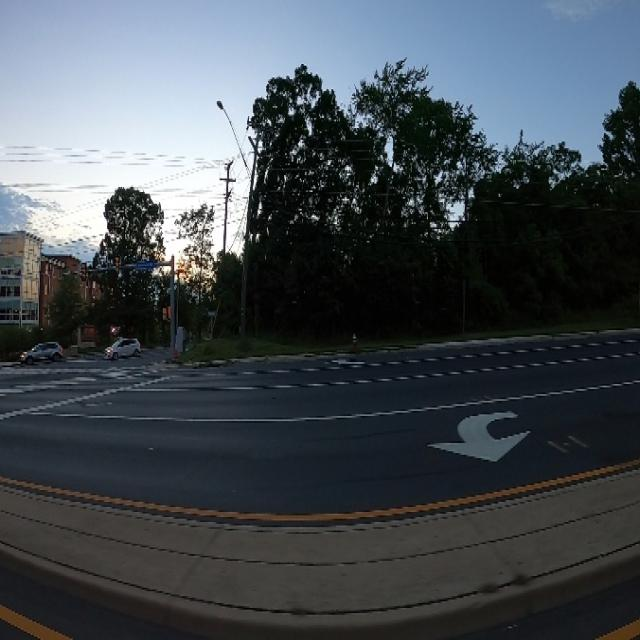Cars: (101, 332, 151, 372), (20, 344, 66, 367)
